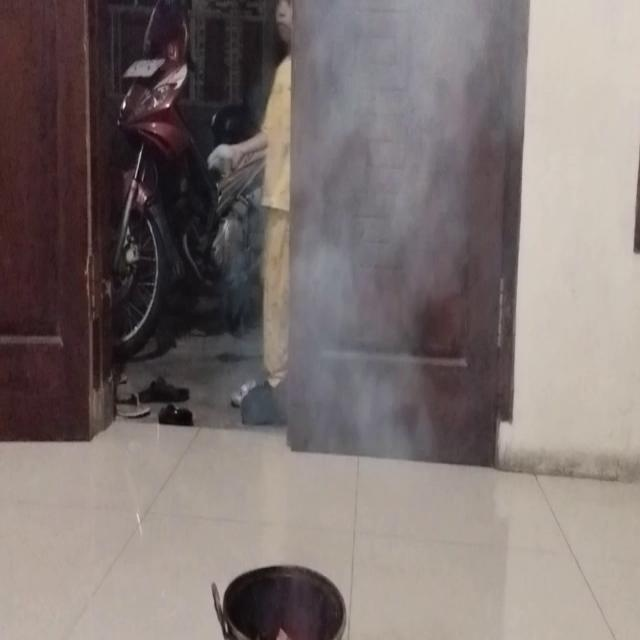smoke: (270, 0, 477, 500)
